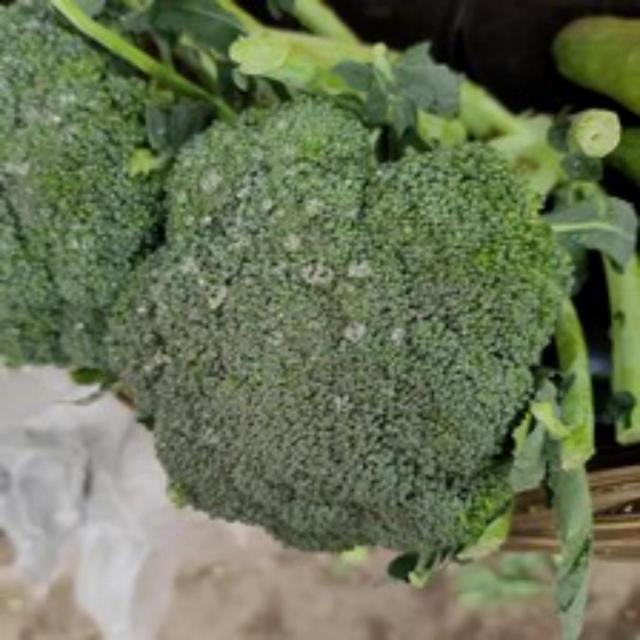broccoli: (90, 85, 577, 562)
